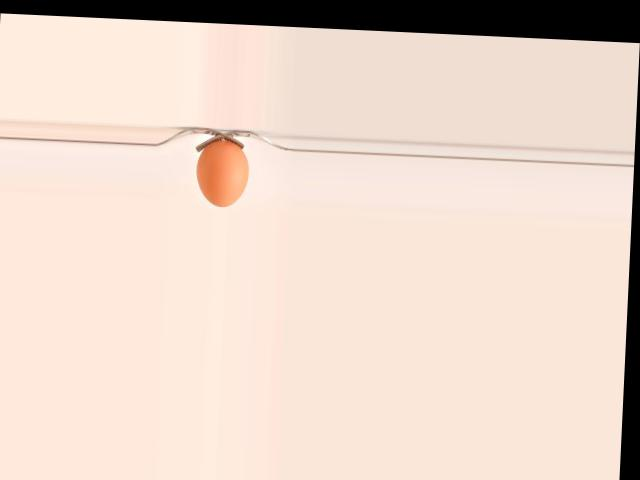egg: (195, 138, 250, 207)
